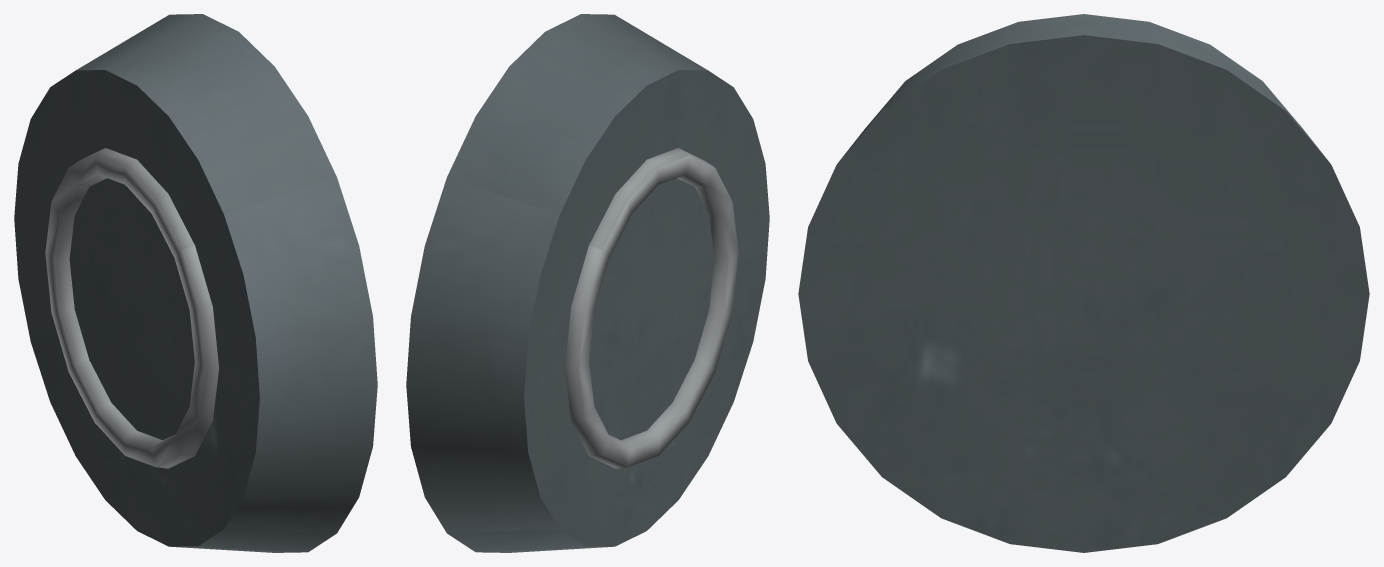
The model's file is prop_test_seal.fbx.
3 renders of one model, left to right at view 1: azimuth 30°, elevation 25°; view 2: azimuth 150°, elevation 25°; view 3: azimuth 270°, elevation 25°, orthographic. The views are drawn at different scales.
Visible parts, largest first — view 1: SM_prop_test_seal; view 2: SM_prop_test_seal; view 3: SM_prop_test_seal.
Boxes of the visible parts, x1=… form: SM_prop_test_seal: x1=14, y1=14, x2=377, y2=552; SM_prop_test_seal: x1=406, y1=14, x2=769, y2=552; SM_prop_test_seal: x1=798, y1=14, x2=1369, y2=552.
Bounding box in the file's own units: 0.0123 × 0.052 × 0.052.
2 materials, 2 textured.
